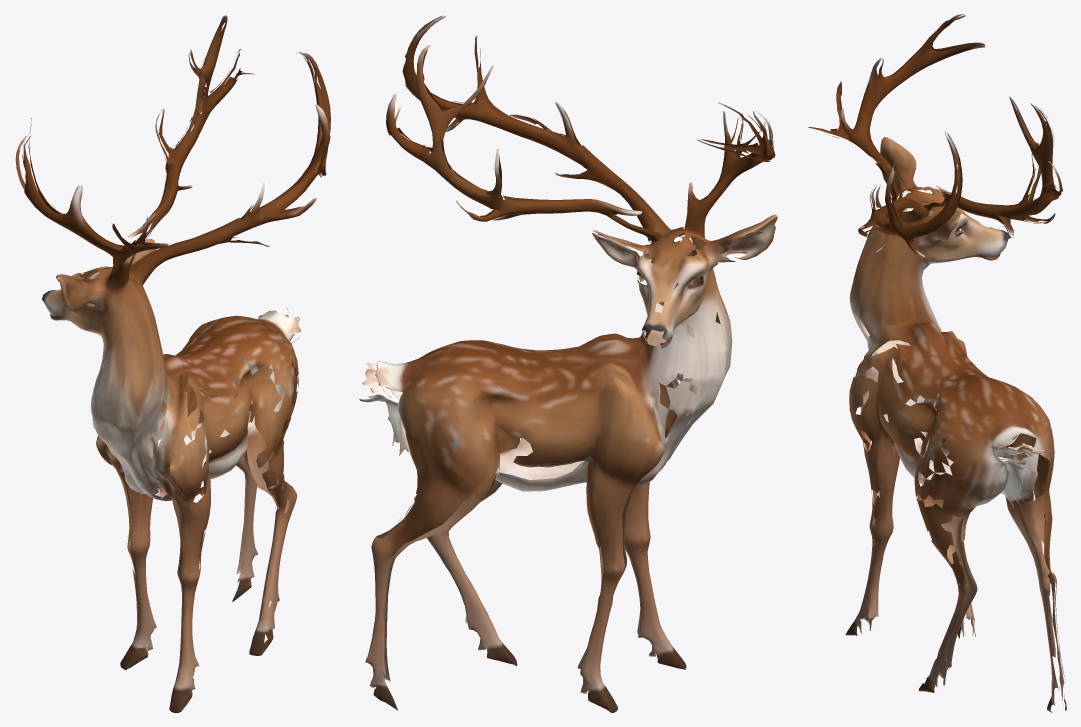
Rendered from critter_deer.glb.
3 renders of one model, left to right at view 1: azimuth 30°, elevation 25°; view 2: azimuth 150°, elevation 25°; view 3: azimuth 270°, elevation 25°, orthographic. The views are drawn at different scales.
Visible parts, largest first — view 1: world; view 2: world; view 3: world.
Part boxes in pixels (x1,y1,x2,y2): world: (15, 15, 330, 712); world: (359, 15, 777, 712); world: (808, 14, 1066, 712).
Bounding box in the file's own units: 0.5589 × 0.9991 × 0.3933.
Materials: 1 (1 with a texture image).
